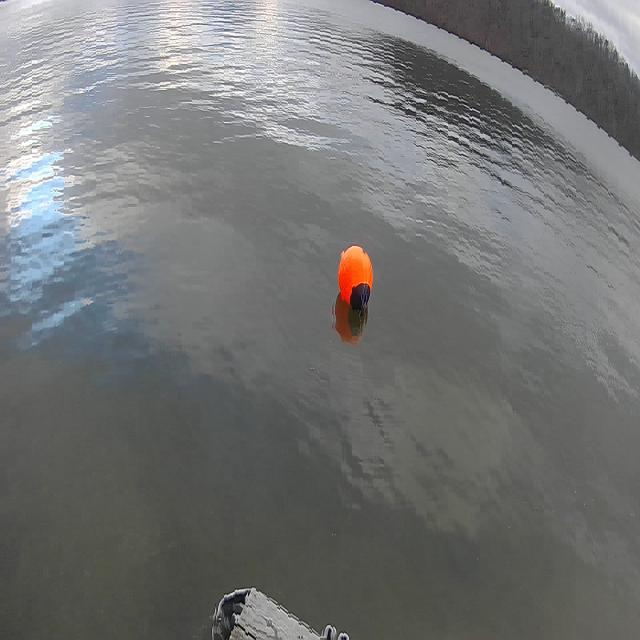Buoy: (334, 233, 376, 316)
